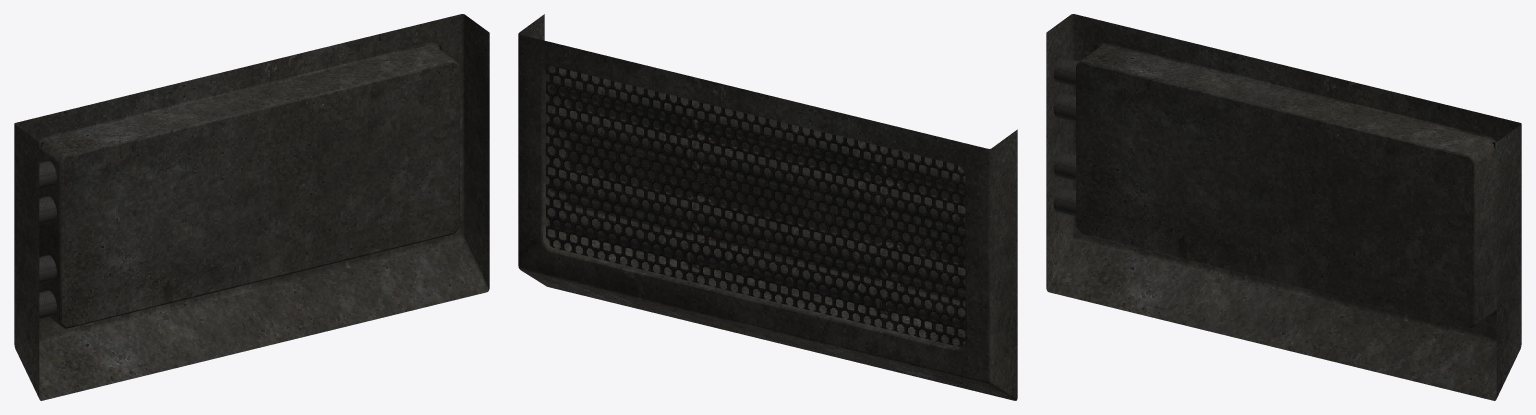
Rendered from wall_peace_1.glb.
The picture shows the model from 3 angles, left to right: view 1: azimuth 30°, elevation 25°; view 2: azimuth 150°, elevation 25°; view 3: azimuth 330°, elevation 25°; orthographic projection. The views are drawn at different scales.
Visible parts, largest first — view 1: wall_peace_1; view 2: wall_peace_1; view 3: wall_peace_1.
Part boxes in pixels (left/top/right/bottom): wall_peace_1: left=14, top=14, right=489, bottom=400; wall_peace_1: left=518, top=14, right=1017, bottom=400; wall_peace_1: left=1046, top=14, right=1521, bottom=400.
Size of the model in its own units: 4 by 2.2 by 0.4.
Materials: 5 (5 with a texture image).
